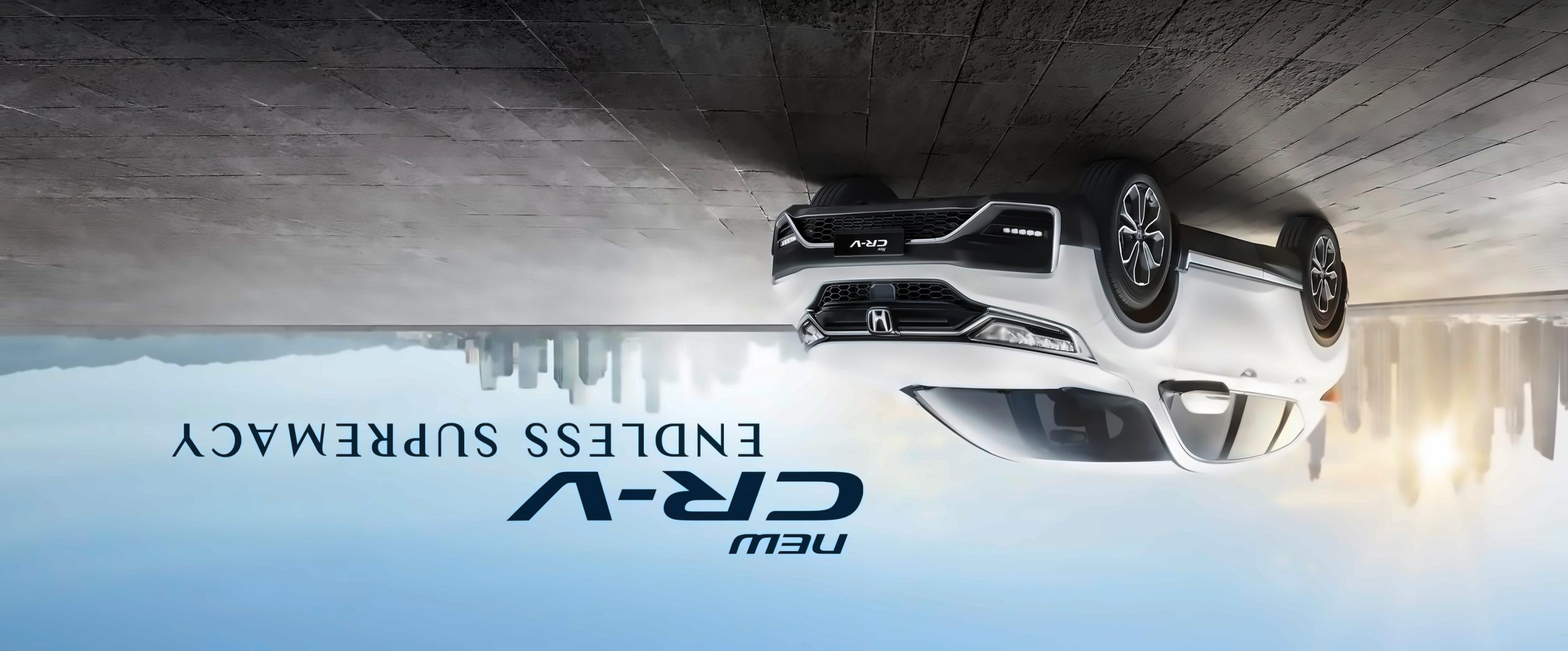Car hood: (797, 341, 1133, 397)
Driver-s door - -F-R-: (1174, 256, 1267, 479)
Fender - -F-R-: (1081, 222, 1194, 392)
Front bumper: (767, 189, 1117, 319)
Headlight - -L-: (785, 310, 834, 353)
Headlight - -R-: (962, 302, 1100, 366)
Passenger-s door - -R-R-: (1249, 268, 1321, 477)
Side bumper - -R-: (1169, 212, 1309, 293)
Side mirror - -R-: (1168, 375, 1234, 418)
